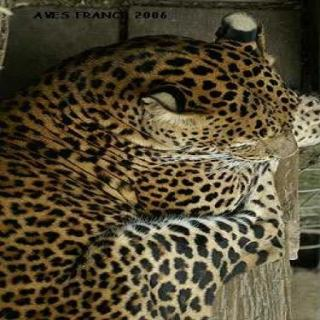Leopard: (2, 27, 315, 319)
